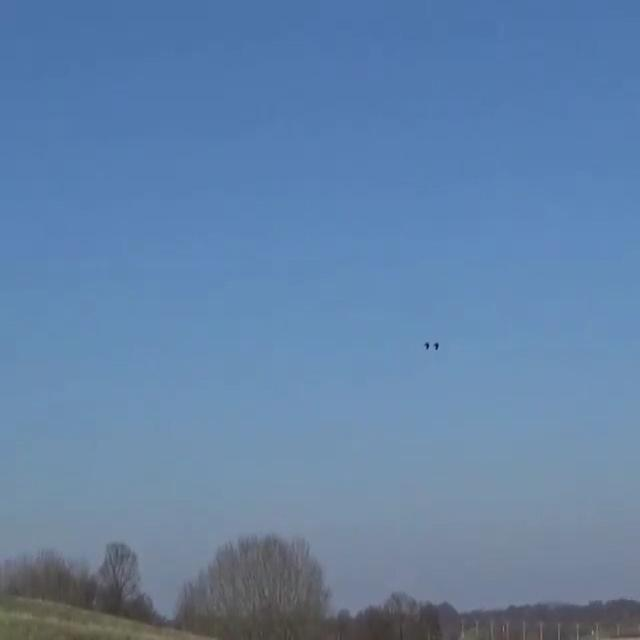bird: (432, 339, 441, 355), (424, 340, 429, 352)
